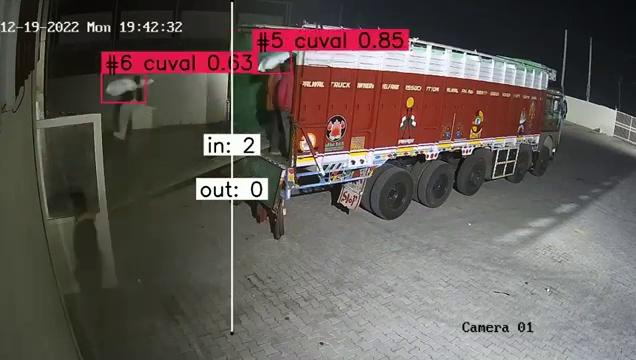karung: (104, 75, 144, 101), (258, 52, 290, 72)
